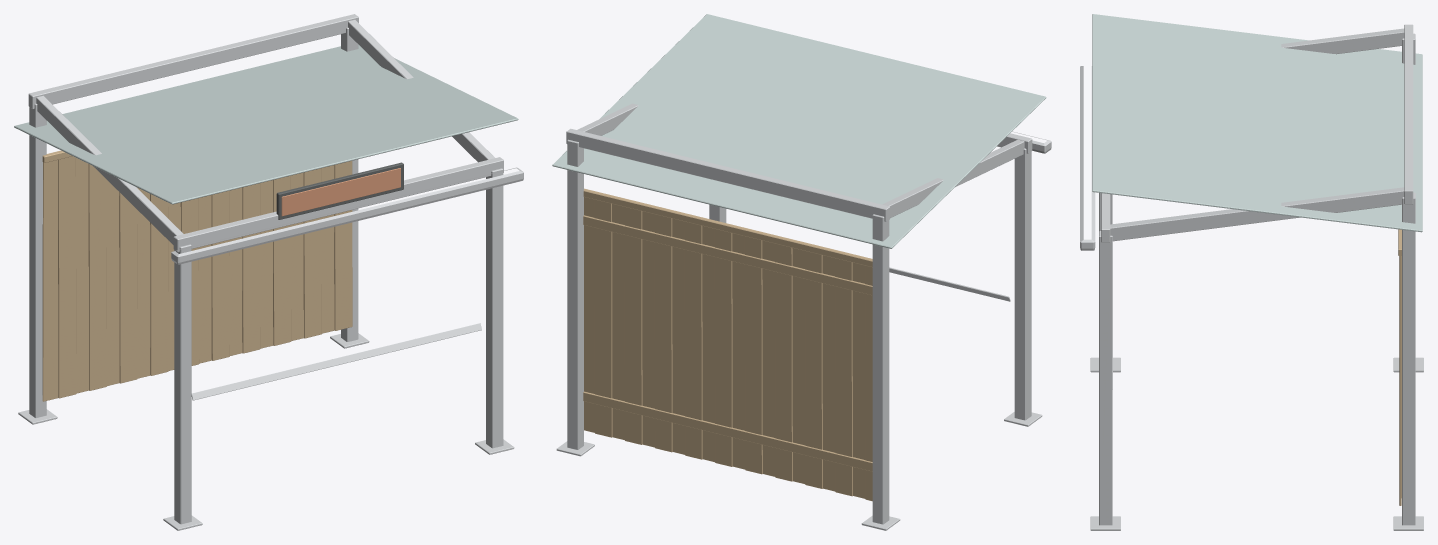
File: garden-centre-and-florist-trolley-return-shelter-106beced__17715.glb
The picture shows the model from 3 angles, left to right: view 1: azimuth 30°, elevation 25°; view 2: azimuth 150°, elevation 25°; view 3: azimuth 270°, elevation 25°; orthographic projection. The views are drawn at different scales.
Parts seen in each view (by area): view 1: trolley-return-shelter; view 2: trolley-return-shelter; view 3: trolley-return-shelter.
Part boxes in pixels (left/top/right/bottom): trolley-return-shelter: left=14, top=14, right=523, bottom=530; trolley-return-shelter: left=552, top=14, right=1051, bottom=530; trolley-return-shelter: left=1080, top=14, right=1423, bottom=530.
Bounding box in the file's own units: 2.76 × 2.5 × 2.27.
